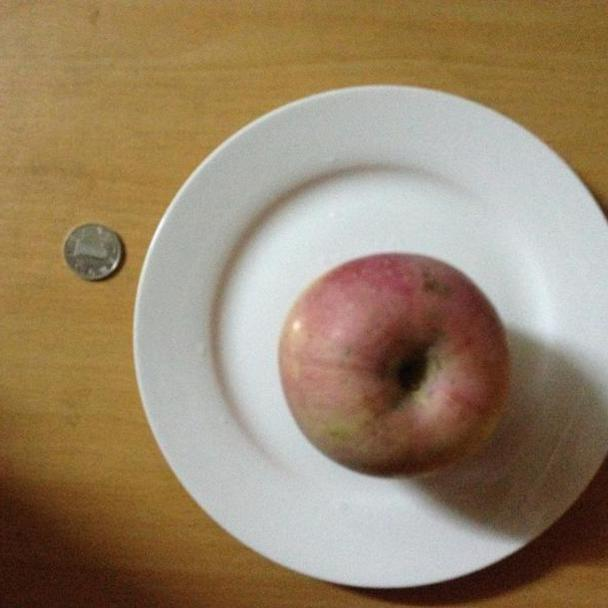apple: (277, 252, 511, 479)
